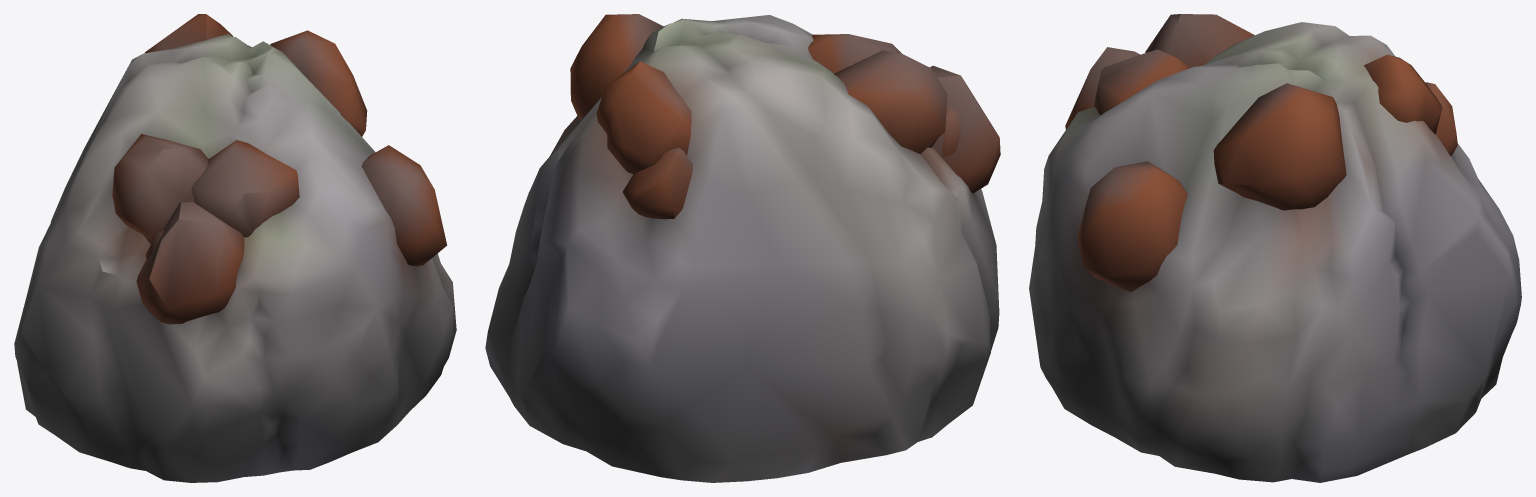
Rendered from cave-oreIron-v2.glb.
3 views of the same model, side by side, from view 1: azimuth 30°, elevation 25°; view 2: azimuth 150°, elevation 25°; view 3: azimuth 270°, elevation 25° (orthographic). The views are drawn at different scales.
Parts seen in each view (by area): view 1: 0_vein; view 2: 0_vein; view 3: 0_vein.
Boxes of the visible parts, bbox=[...] form: 0_vein: bbox=[14, 14, 456, 482]; 0_vein: bbox=[485, 14, 1000, 482]; 0_vein: bbox=[1029, 14, 1521, 482].
Size of the model in its own units: 1.12 by 0.864 by 1.12.
